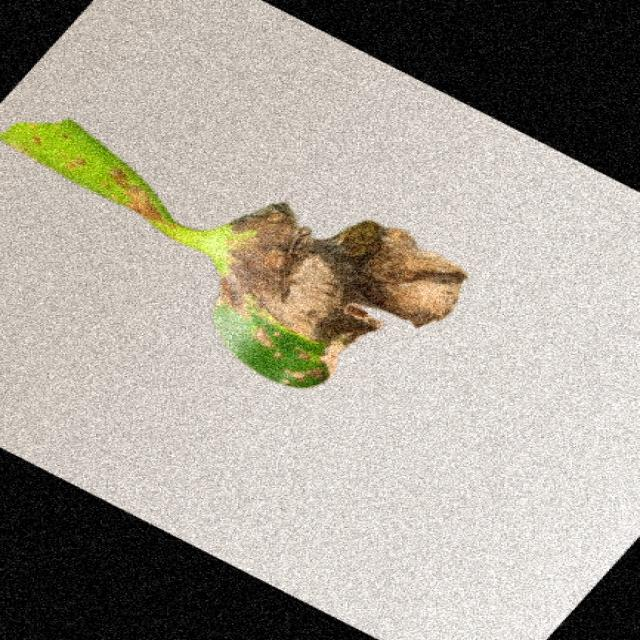daun berpenyakit karat: (2, 120, 466, 388)
